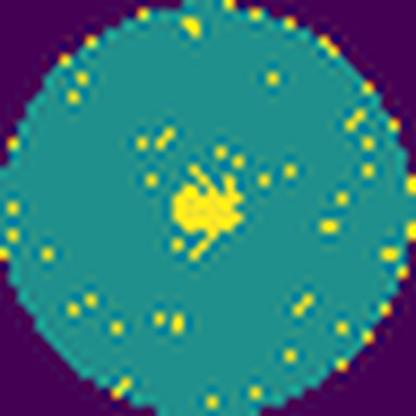Center: (173, 166, 243, 262)
